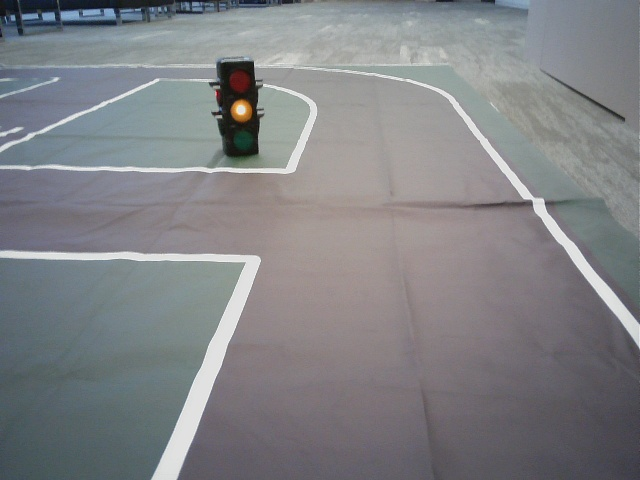yellow: (223, 64, 258, 149)
